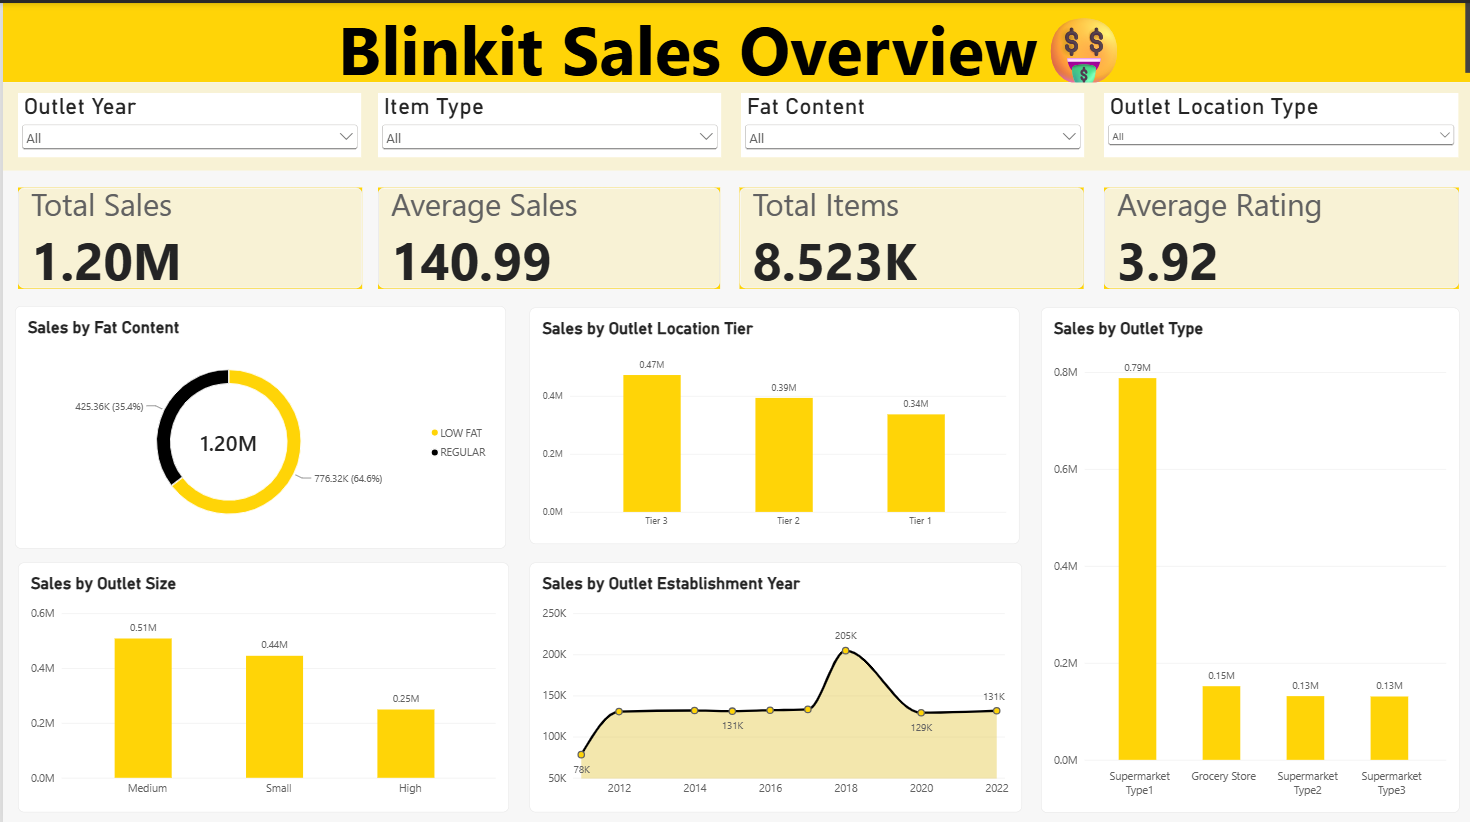

What the dashboard file says about the page in this screenshot:
{"tool":"powerbi","page":{"name":"Sales Overview","canvas":[1920,1080],"ordinal":0},"visuals":[{"type":"textbox","box":[0,0,1920,103.2],"z":0},{"type":"shape","box":[0,103.2,1920,115.2],"z":1000},{"type":"slicer","fields":{"Values":["Blinkit Grocery Data.Outlet Establishment Year"]},"box":[19.2,117.6,448.8,84],"z":2000},{"type":"slicer","fields":{"Values":["Blinkit Grocery Data.Item Type"]},"box":[489.6,117.6,448.8,84],"z":3000},{"type":"slicer","fields":{"Values":["Blinkit Grocery Data.Fat Content"]},"box":[964.8,117.6,448.8,84],"z":4000},{"type":"slicer","fields":{"Values":["Blinkit Grocery Data.Outlet Location Type"]},"box":[1440,117.6,463.2,84],"z":5000},{"type":"cardVisual","fields":{"Data":["Sum(Blinkit Grocery Data.Sales)"]},"box":[18.9,241.6,450,132.6],"z":5500},{"type":"cardVisual","fields":{"Data":["Avg(Blinkit Grocery Data.Sales)"]},"box":[490.3,241.6,447.6,132.6],"z":5501},{"type":"cardVisual","fields":{"Data":["CountNonNull(Blinkit Grocery Data.Item Identifier)"]},"box":[964,241.6,450,132.6],"z":5502},{"type":"cardVisual","fields":{"Data":["Avg(Blinkit Grocery Data.Rating)"]},"box":[1440,241.6,464.2,132.6],"z":5503},{"type":"donutChart","title":"Sales by Fat Content","fields":{"Category":["Blinkit Grocery Data.Fat Content"],"Y":["Sum(Blinkit Grocery Data.Sales)"]},"box":[16.6,395.5,641.9,317.4],"z":5504},{"type":"areaChart","title":"Sales by Outlet Establishment Year","fields":{"Category":["Blinkit Grocery Data.Outlet Establishment Year"],"Y":["Sum(Blinkit Grocery Data.Sales)"]},"box":[689.2,731.9,644.2,326.8],"z":5505},{"type":"columnChart","title":"Sales by Outlet Size","fields":{"Category":["Blinkit Grocery Data.Outlet Size"],"Y":["Sum(Blinkit Grocery Data.Sales)"]},"box":[18.9,731.9,641.9,326.8],"z":5506},{"type":"columnChart","title":"Sales by Outlet Location Tier","fields":{"Category":["Blinkit Grocery Data.Outlet Location Type"],"Y":["Sum(Blinkit Grocery Data.Sales)"]},"box":[689.2,397.9,640.8,309.6],"z":5507},{"type":"columnChart","title":"Sales by Outlet Type","fields":{"Category":["Blinkit Grocery Data.Outlet Type"],"Y":["Sum(Blinkit Grocery Data.Sales)"]},"box":[1357.1,397.9,547.1,660.8],"z":5508}]}

Visuals, with their boxes in screenshot pixels (x1, y1, x2, y2), scaled from the page's 1920x1080 canvas onto the 1470x822 screenshot:
textbox: box(0, 0, 1469, 79)
shape: box(0, 79, 1469, 166)
slicer - Blinkit Grocery Data.Outlet Establishment Year: box(15, 90, 358, 153)
slicer - Blinkit Grocery Data.Item Type: box(375, 90, 718, 153)
slicer - Blinkit Grocery Data.Fat Content: box(739, 90, 1082, 153)
slicer - Blinkit Grocery Data.Outlet Location Type: box(1102, 90, 1457, 153)
cardVisual - Sum(Blinkit Grocery Data.Sales): box(14, 184, 359, 285)
cardVisual - Avg(Blinkit Grocery Data.Sales): box(375, 184, 718, 285)
cardVisual - CountNonNull(Blinkit Grocery Data.Item Identifier): box(738, 184, 1083, 285)
cardVisual - Avg(Blinkit Grocery Data.Rating): box(1102, 184, 1458, 285)
"Sales by Fat Content" donutChart: box(13, 301, 504, 543)
"Sales by Outlet Establishment Year" areaChart: box(528, 557, 1021, 806)
"Sales by Outlet Size" columnChart: box(14, 557, 506, 806)
"Sales by Outlet Location Tier" columnChart: box(528, 303, 1018, 538)
"Sales by Outlet Type" columnChart: box(1039, 303, 1458, 806)
